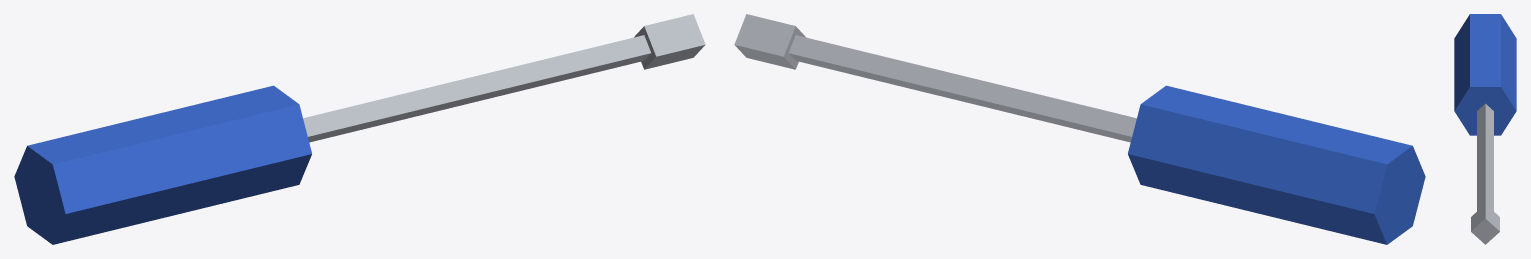
Rendered from garage_screwdriver.glb.
3 renders of one model, left to right at view 1: azimuth 30°, elevation 25°; view 2: azimuth 150°, elevation 25°; view 3: azimuth 270°, elevation 25°, orthographic. The views are drawn at different scales.
Visible parts, largest first — view 1: handle_handle_blue_tool, shaft_tool_chrome, tip_tool_chrome; view 2: handle_handle_blue_tool, shaft_tool_chrome, tip_tool_chrome; view 3: handle_handle_blue_tool, shaft_tool_chrome, tip_tool_chrome.
Boxes of the visible parts, left/top/right/bottom form: handle_handle_blue_tool: left=14, top=85, right=311, bottom=244; shaft_tool_chrome: left=303, top=35, right=650, bottom=142; tip_tool_chrome: left=634, top=14, right=705, bottom=69; handle_handle_blue_tool: left=1128, top=85, right=1425, bottom=244; shaft_tool_chrome: left=789, top=35, right=1136, bottom=142; tip_tool_chrome: left=734, top=14, right=805, bottom=69; handle_handle_blue_tool: left=1454, top=14, right=1516, bottom=135; shaft_tool_chrome: left=1477, top=103, right=1493, bottom=210; tip_tool_chrome: left=1471, top=204, right=1499, bottom=244.
Bounding box in the file's own units: 0.265 × 0.0312 × 0.036.
